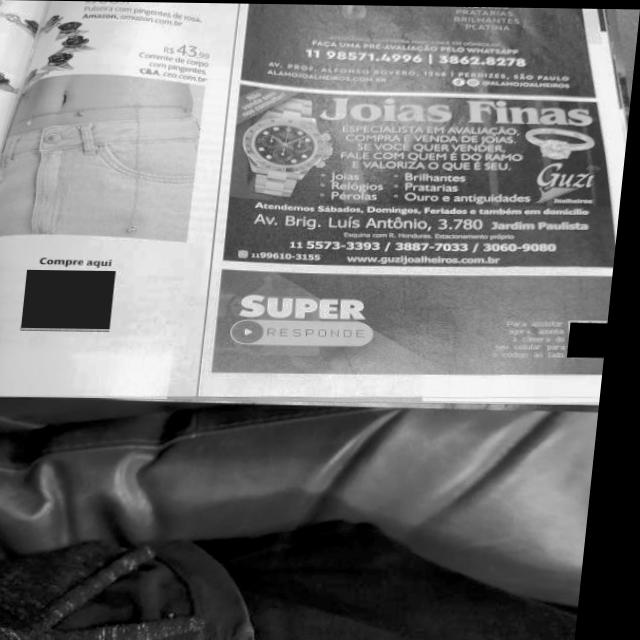qr_code: (28, 270, 122, 331), (575, 321, 614, 355)
